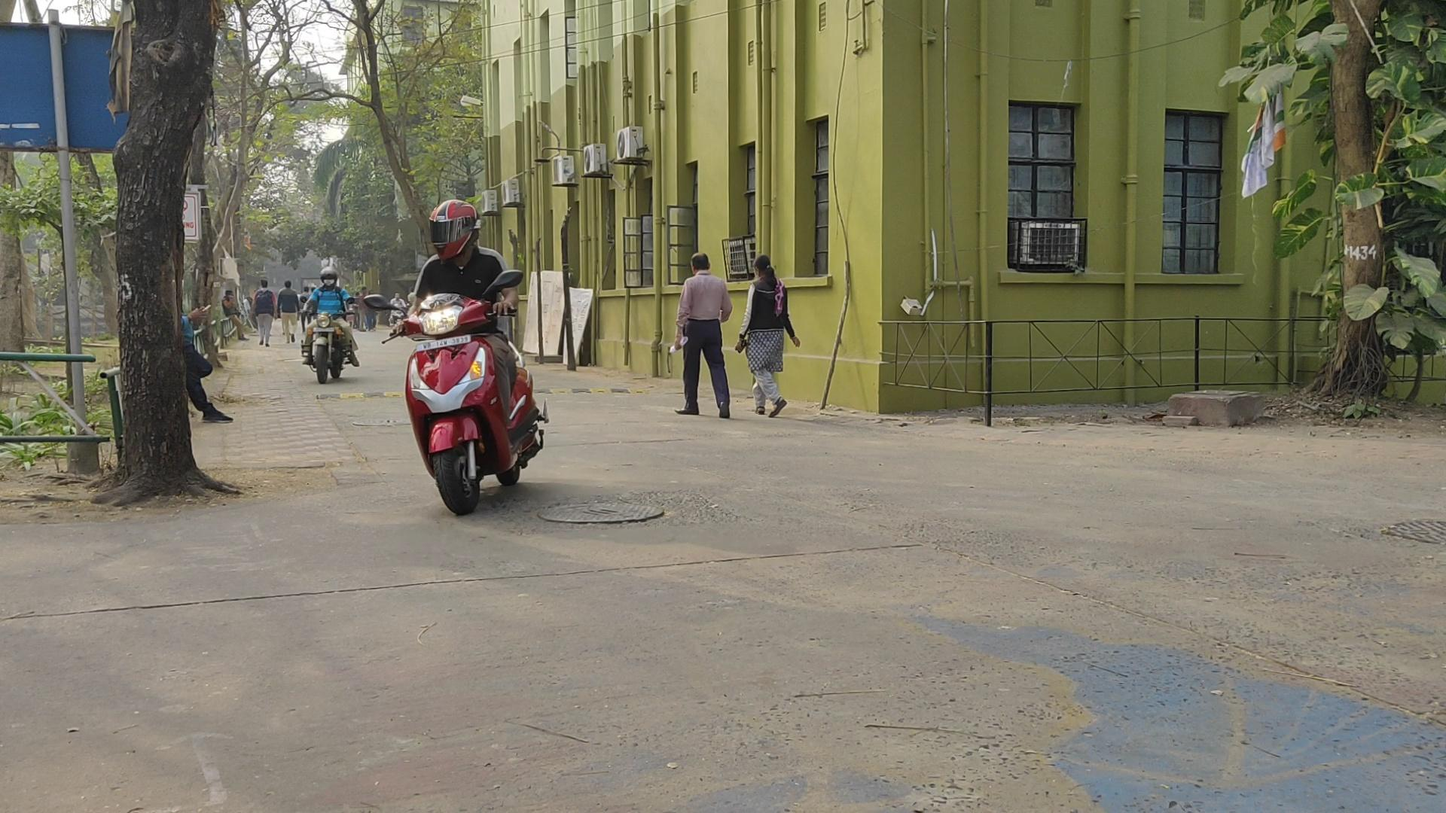bike: (386, 200, 548, 518), (300, 266, 358, 384)
